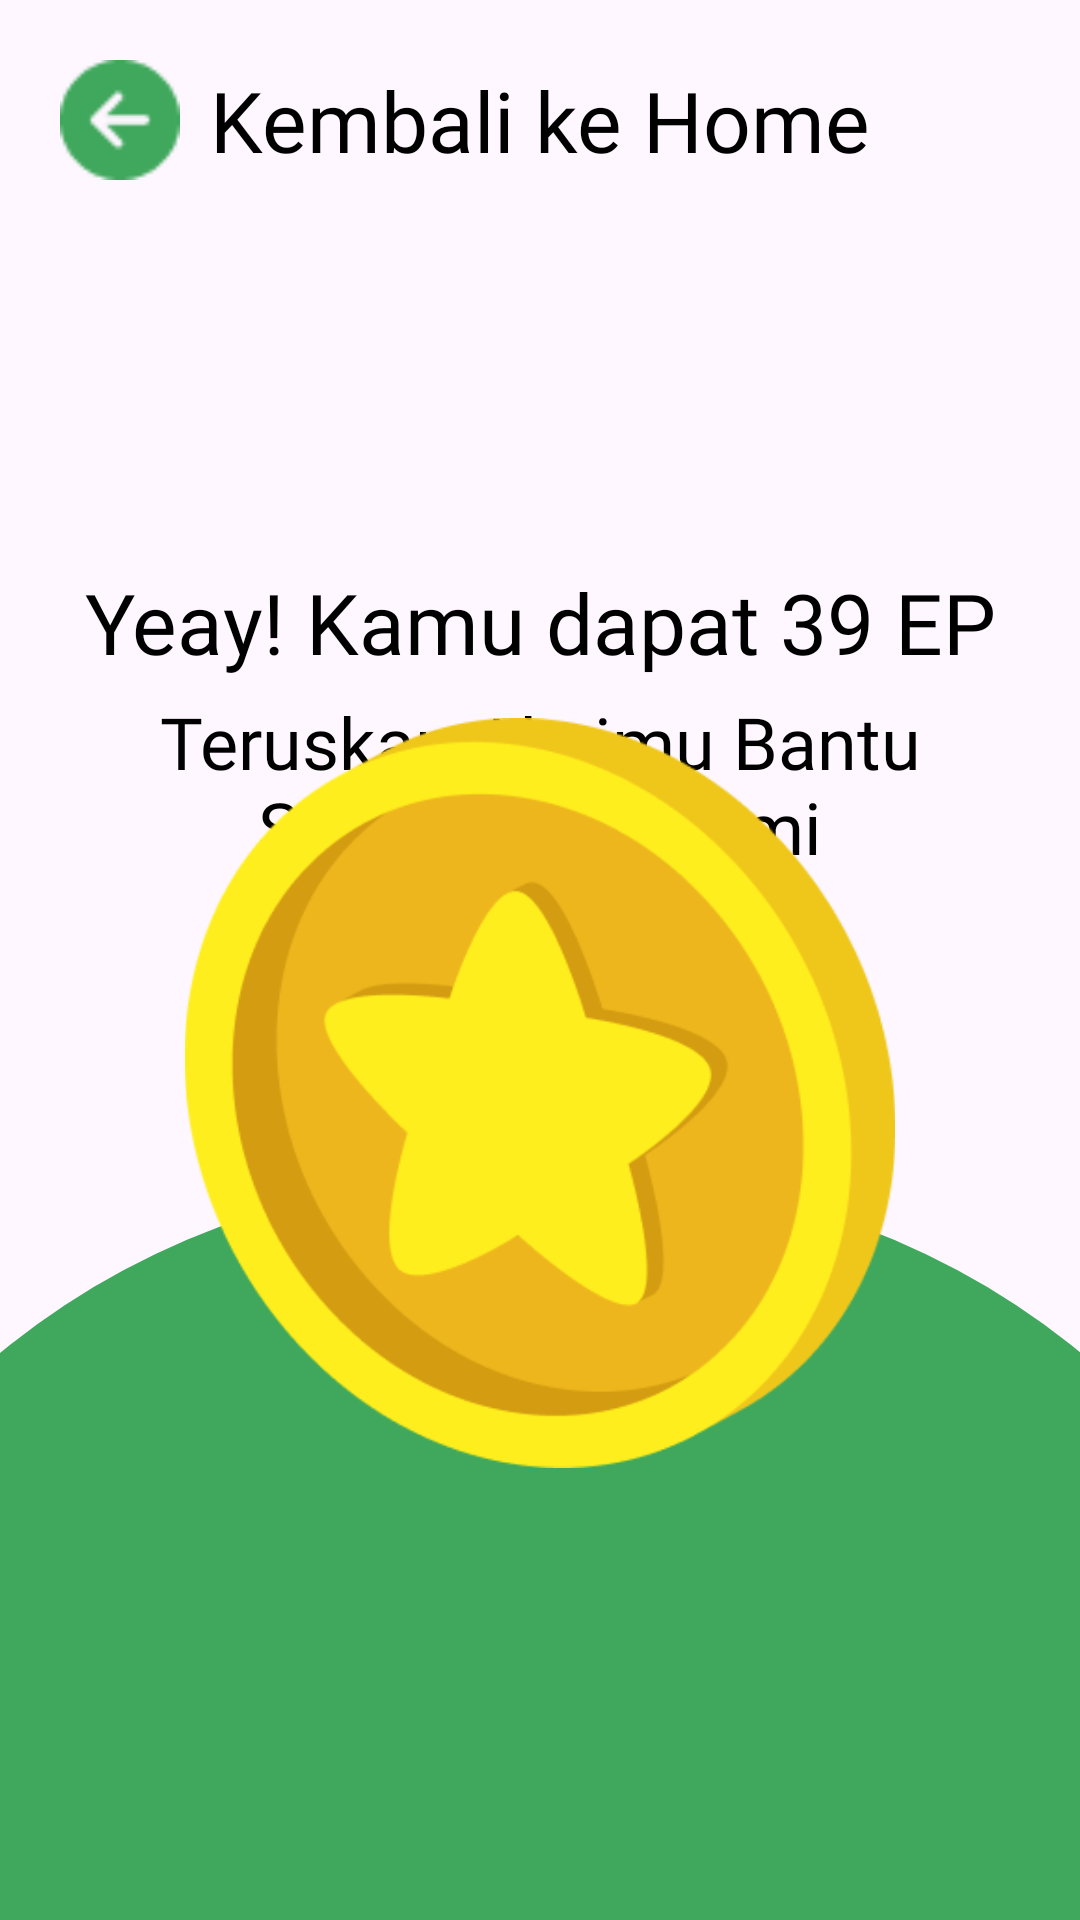

Where icons sit on this 1080 x 1920 app screen, as (x1, y1, x2, y2):
back: (60, 60, 180, 180)
